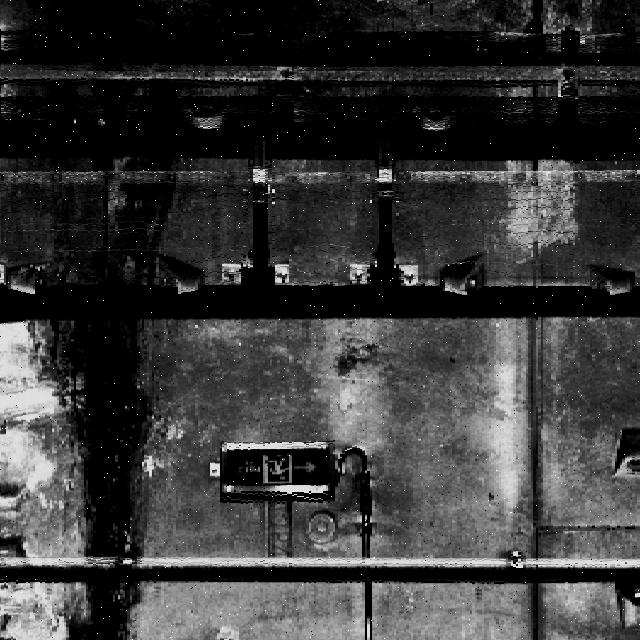leakage: (22, 317, 165, 640), (89, 157, 181, 290)
